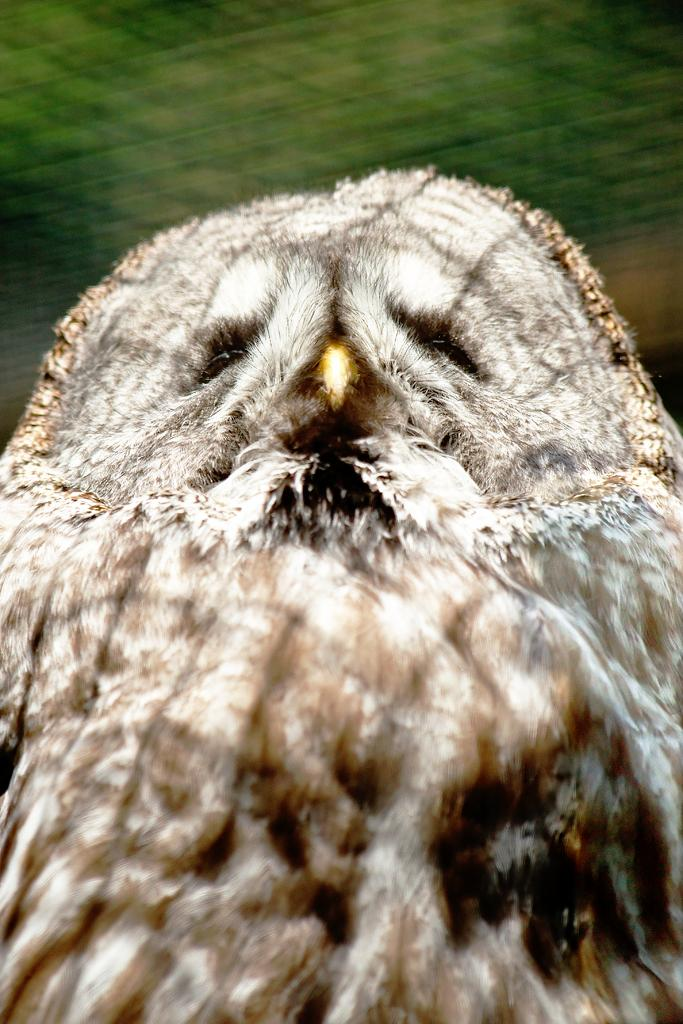Owl: (0, 164, 682, 1024)
